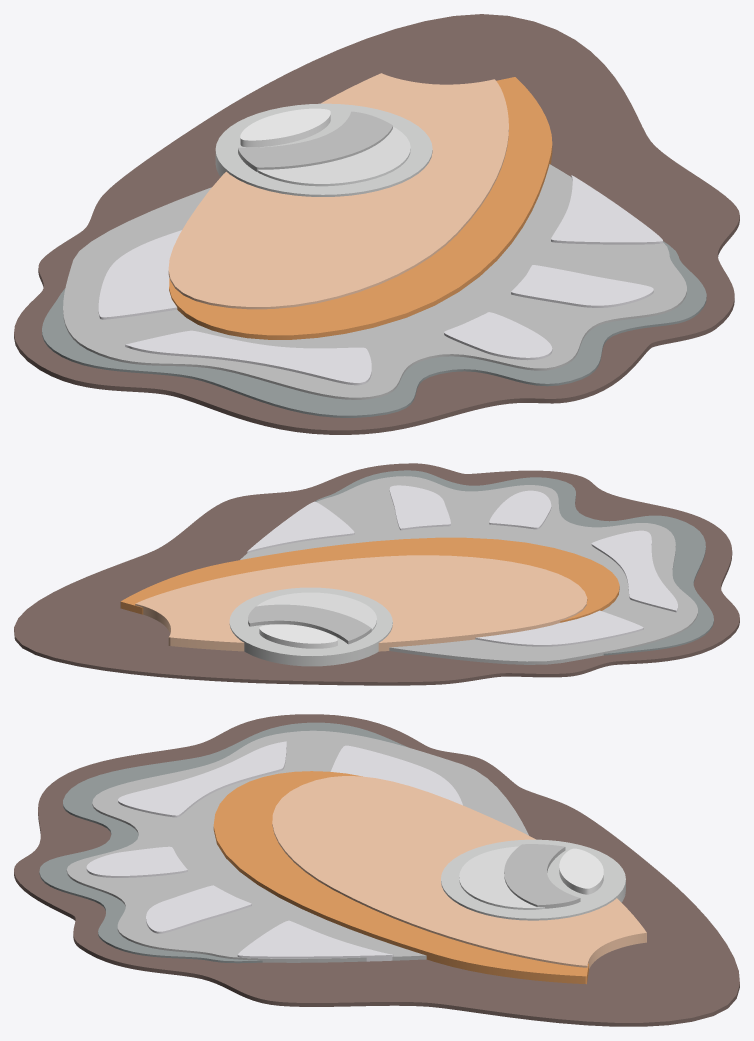
File: emoji_u1f9aa.glb
3 views of the same model, one above another, from view 1: azimuth 30°, elevation 25°; view 2: azimuth 150°, elevation 25°; view 3: azimuth 270°, elevation 25° (orthographic). The views are drawn at different scales.
Parts seen in each view (by area): view 1: emoji_u1f9aa; view 2: emoji_u1f9aa; view 3: emoji_u1f9aa.
Boxes of the visible parts, x1,y1,x2,y2 form: emoji_u1f9aa: [14, 14, 739, 434]; emoji_u1f9aa: [14, 463, 739, 685]; emoji_u1f9aa: [14, 714, 739, 1026].
Size of the model in its own units: 0.0338 by 0.002 by 0.0336.
